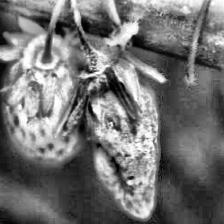Gray Mold: (61, 45, 167, 222)
